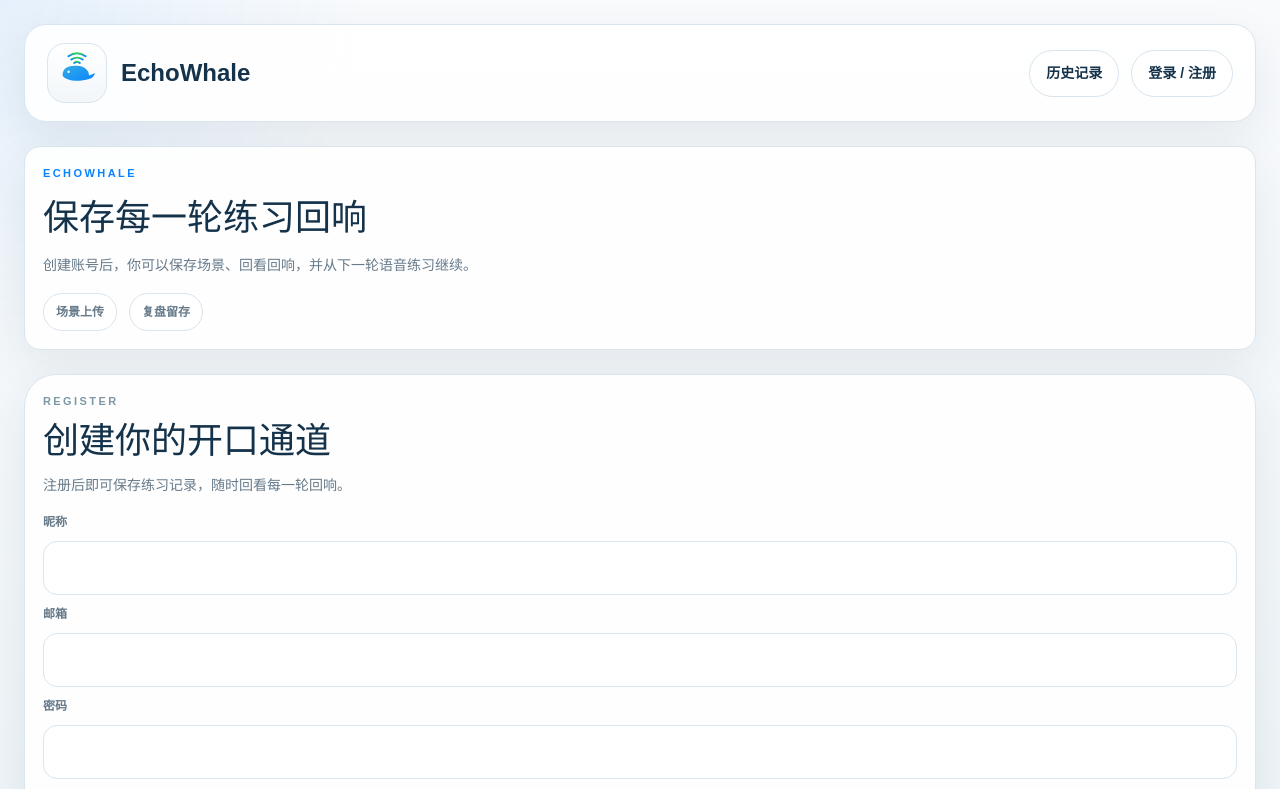
it: App › shows a localized registration error when the email already exists
Step 1. Type "Echo Learner" into the field labelled "昵称" → x=640, y=568, box x1=43 y1=541 x2=1237 y2=595
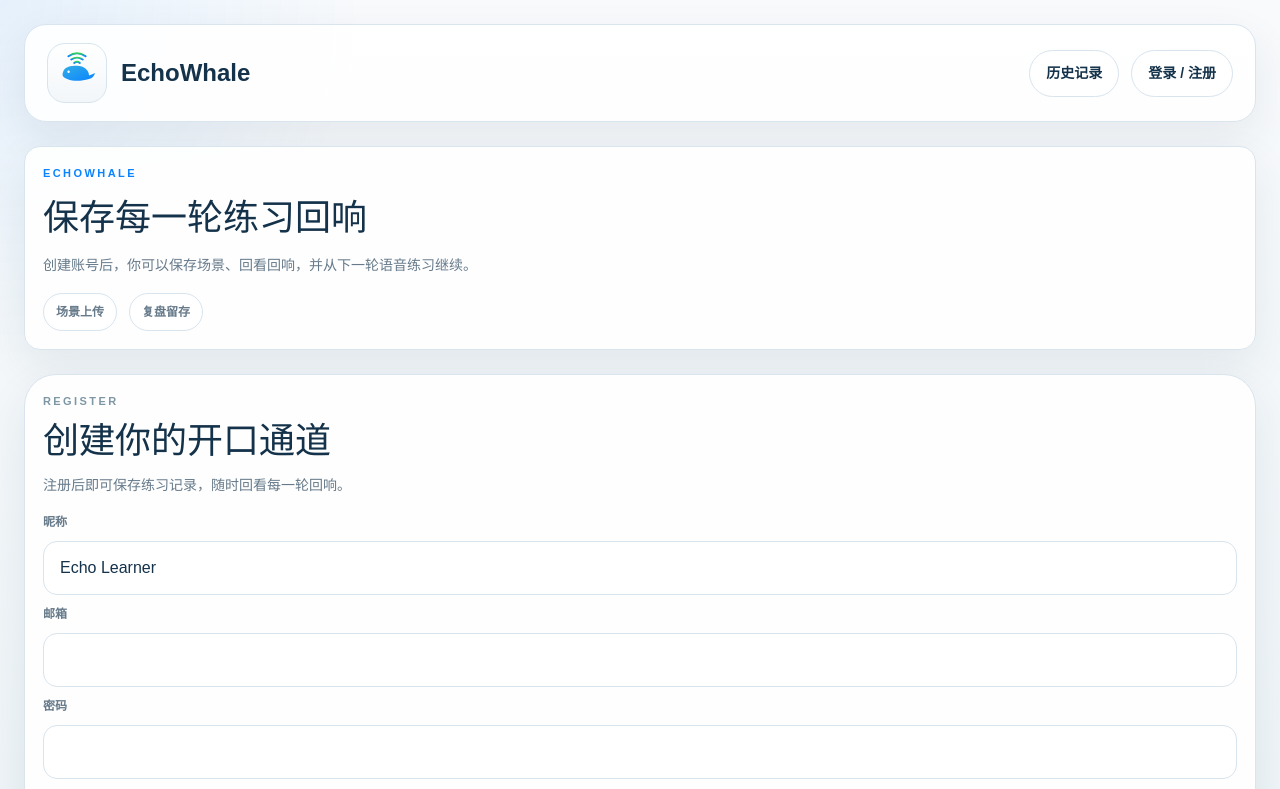
Step 2. Type "learner@example.com" into the field labelled "邮箱" → x=640, y=660, box x1=43 y1=633 x2=1237 y2=687
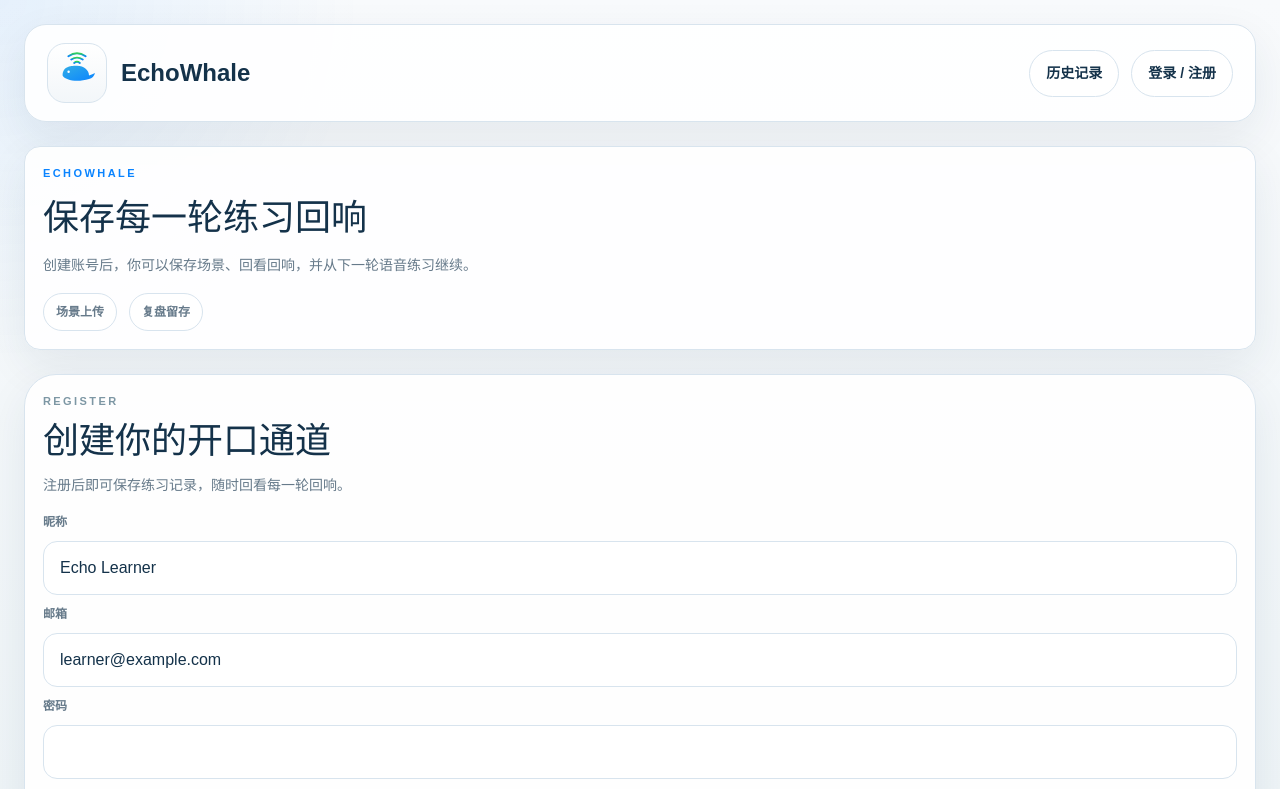
Step 3. Type "secret123" into the password field labelled "密码" → x=640, y=752, box x1=43 y1=725 x2=1237 y2=779
(page scrolled)
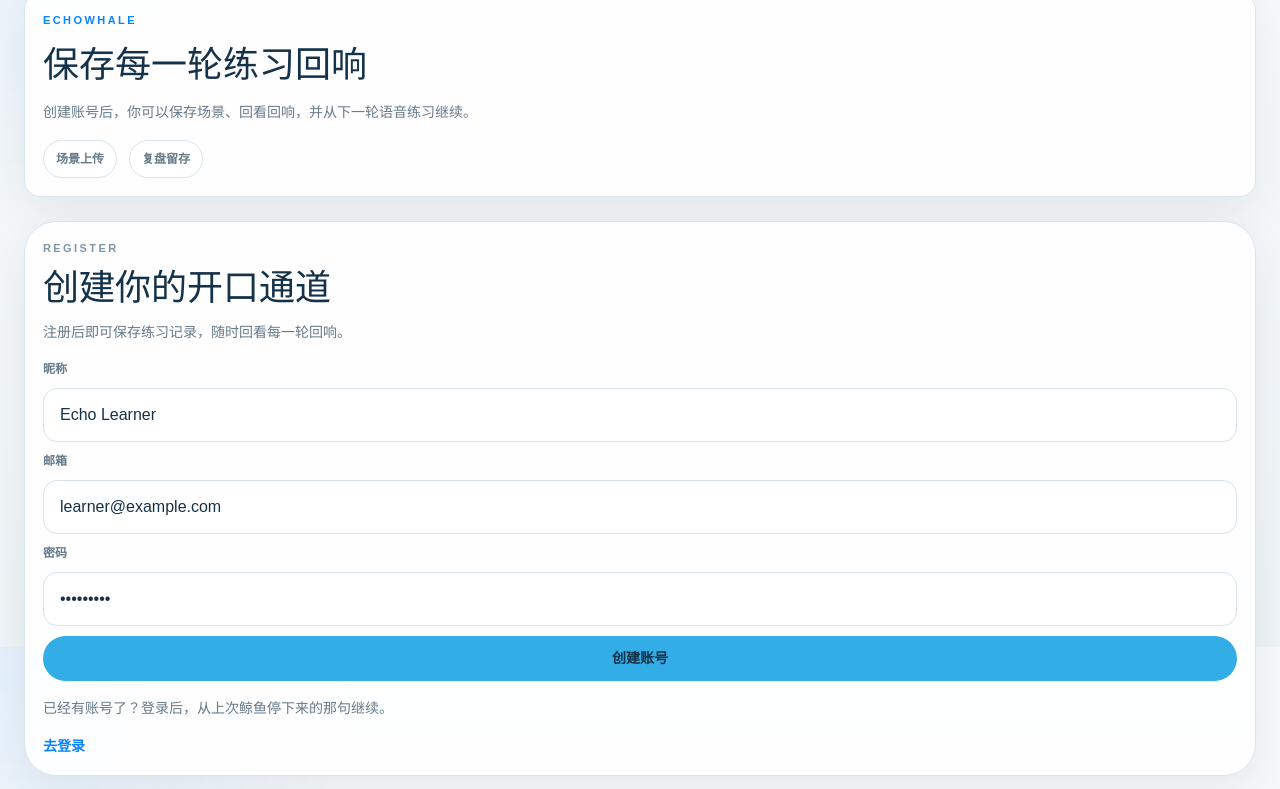
Step 4. Click the button "创建账号" → x=640, y=658, box x1=43 y1=636 x2=1237 y2=681
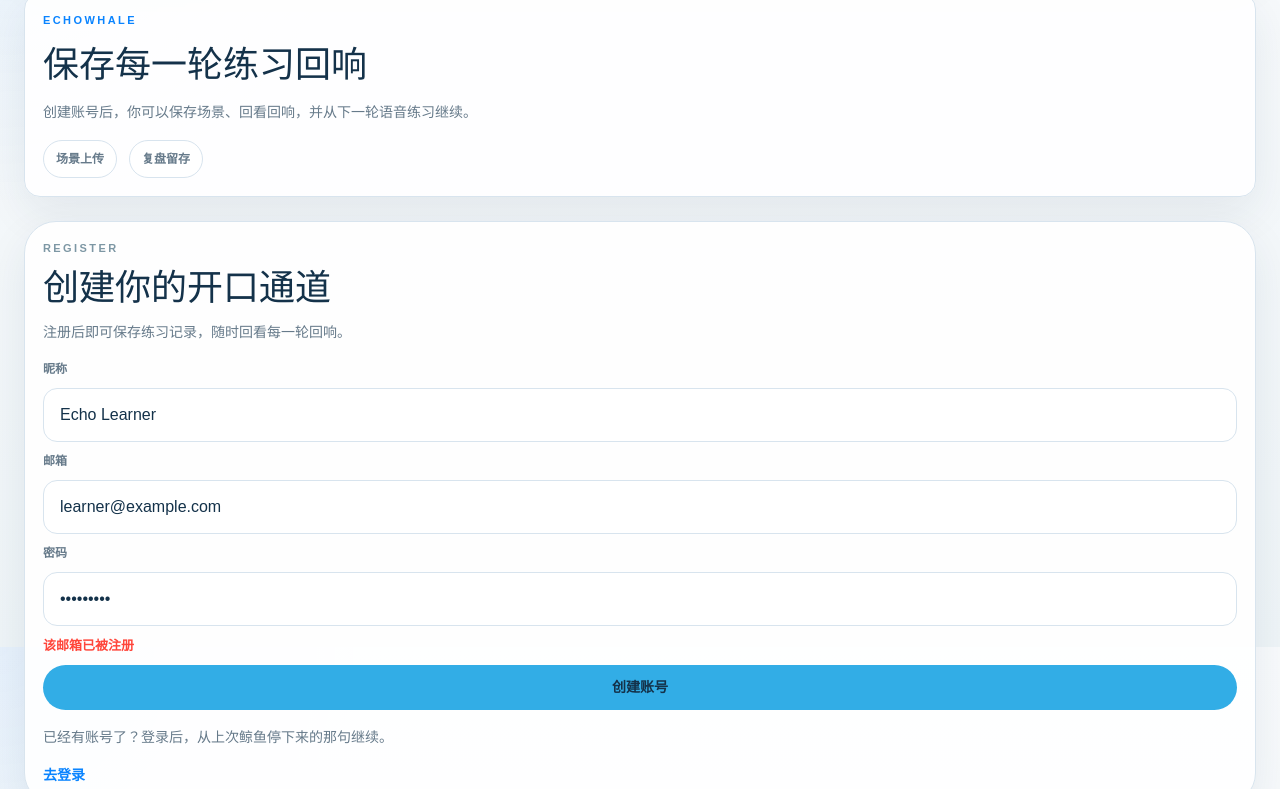
Expected: the text "该邮箱已被注册" is shown, x1=43 y1=638 x2=134 y2=653
